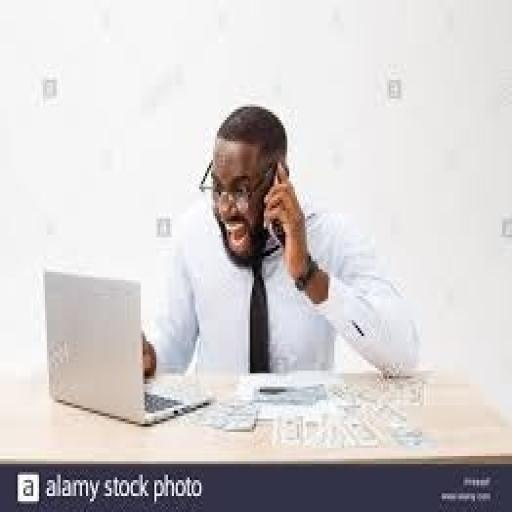using_laptop: (41, 264, 211, 427)
